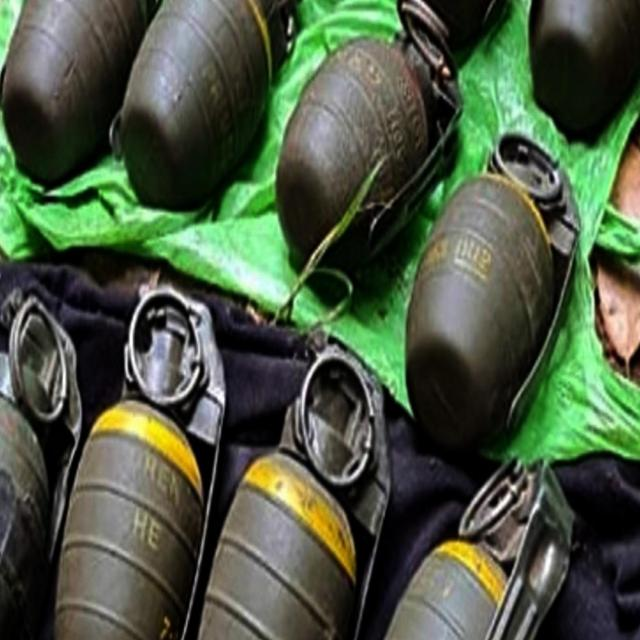grenade: (56, 284, 229, 640), (200, 344, 393, 640), (405, 128, 580, 450), (277, 1, 462, 275), (111, 1, 304, 213), (384, 454, 577, 640), (1, 286, 90, 640), (1, 1, 159, 189), (533, 1, 640, 139)
